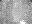person: (19, 20, 26, 24)
